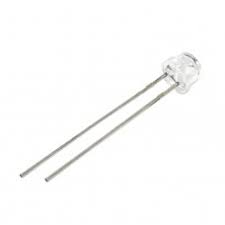LED: (10, 48, 214, 195), (146, 48, 209, 102)
